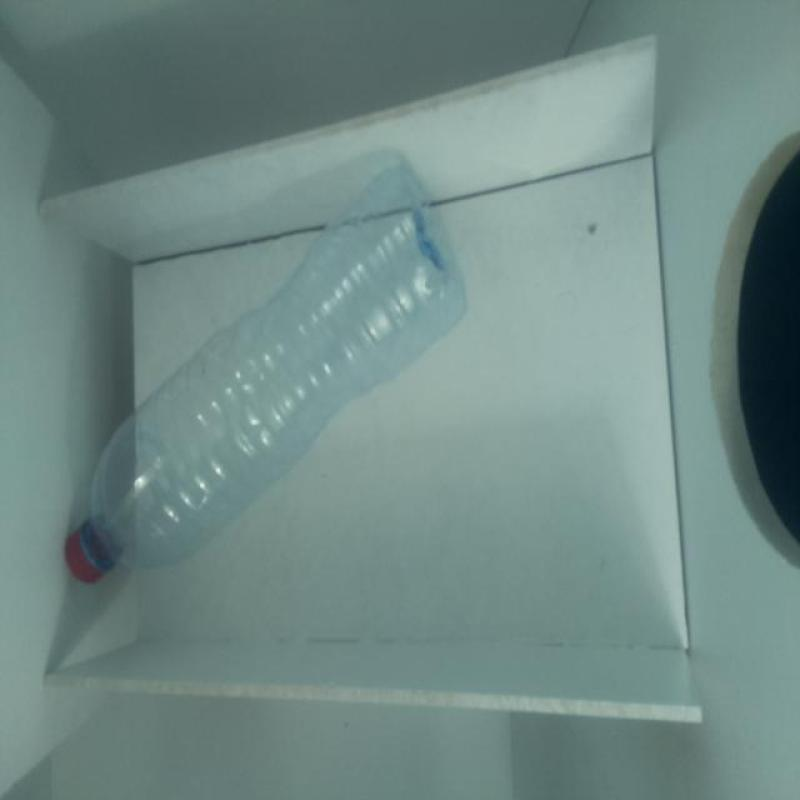botella: (65, 167, 469, 584)
